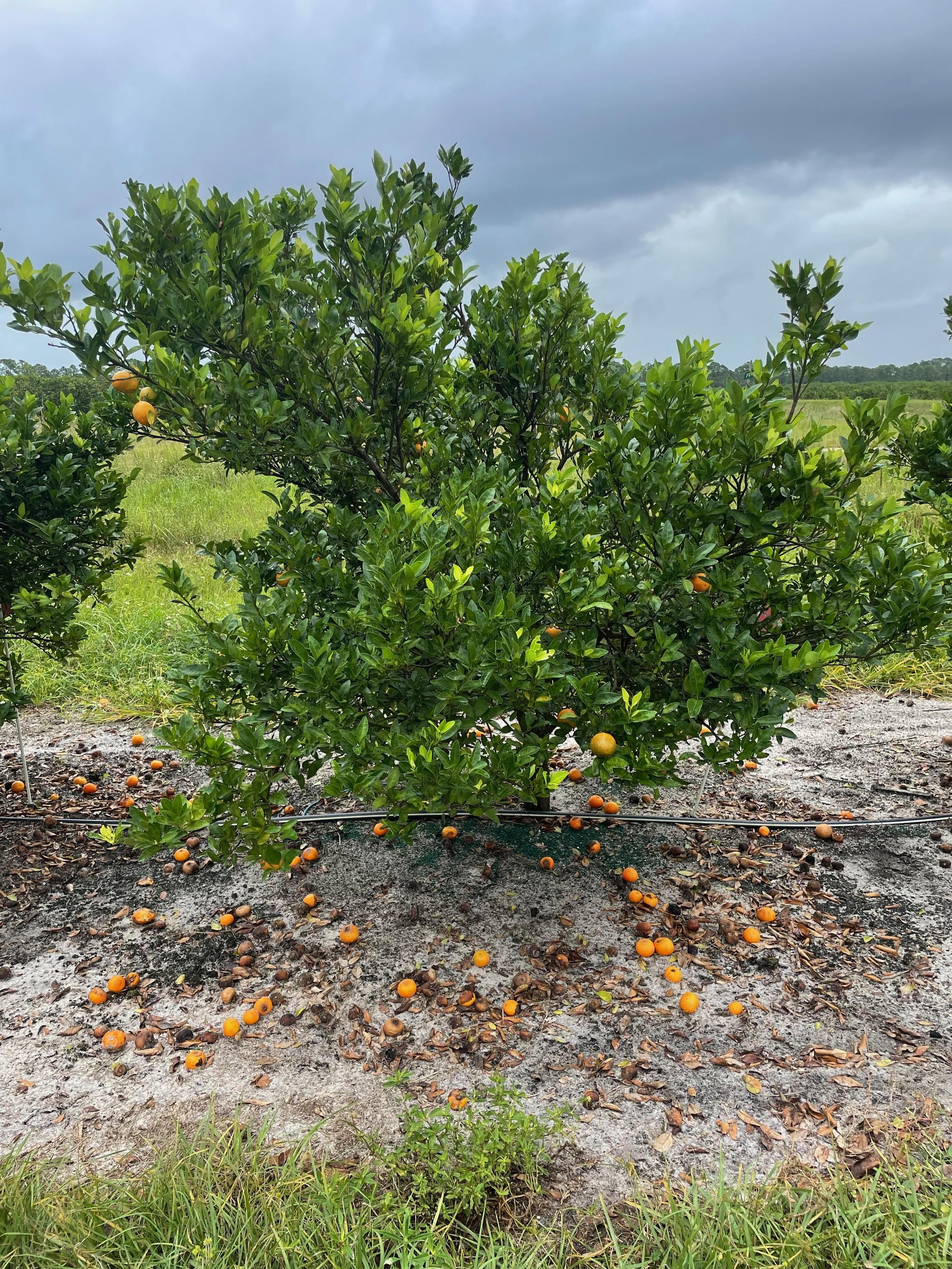fruit_on_ground: (109, 367, 141, 395), (588, 730, 618, 759), (130, 400, 159, 427), (688, 569, 714, 595), (555, 706, 580, 731), (272, 567, 296, 589), (554, 404, 575, 427), (137, 384, 159, 404), (541, 622, 564, 641), (411, 437, 431, 457)
fruit_on_tree: (677, 989, 700, 1015), (103, 1027, 127, 1050), (259, 851, 284, 873), (445, 1088, 470, 1110), (382, 1015, 406, 1036), (338, 921, 360, 943), (663, 963, 685, 984), (396, 977, 418, 998), (184, 1049, 207, 1069), (653, 935, 674, 956), (471, 947, 492, 968), (635, 935, 655, 957), (133, 1030, 156, 1049), (107, 973, 128, 993), (741, 924, 762, 944), (132, 906, 154, 925), (254, 994, 274, 1014), (87, 985, 108, 1004), (756, 903, 777, 922), (509, 970, 531, 988), (175, 1027, 196, 1045), (501, 997, 520, 1016), (726, 998, 746, 1016), (457, 988, 477, 1006), (814, 820, 834, 838), (620, 865, 640, 883), (634, 918, 653, 936), (222, 1016, 240, 1035), (241, 1007, 259, 1026), (110, 1059, 128, 1077), (372, 819, 390, 837), (125, 970, 142, 988), (297, 969, 316, 985), (440, 823, 459, 839), (219, 986, 236, 1003), (236, 940, 254, 956), (626, 887, 644, 903), (643, 890, 660, 906), (285, 853, 302, 869), (302, 845, 319, 861), (538, 854, 555, 870), (173, 846, 190, 862), (603, 799, 620, 815), (199, 1028, 217, 1043), (234, 902, 252, 917), (474, 997, 490, 1013), (806, 876, 823, 891), (566, 766, 583, 781), (93, 1024, 110, 1039), (684, 917, 700, 932), (303, 891, 318, 907), (586, 839, 602, 854), (10, 778, 26, 793), (588, 793, 604, 808), (181, 860, 198, 874), (81, 781, 98, 795), (554, 953, 569, 968), (927, 827, 943, 841), (238, 953, 254, 967), (219, 912, 235, 926), (279, 1012, 296, 1025), (470, 726, 487, 739), (118, 795, 135, 808), (1, 963, 13, 981), (269, 918, 287, 930), (482, 837, 497, 851), (819, 853, 834, 867), (253, 923, 268, 937), (831, 830, 846, 844), (275, 967, 290, 981), (757, 823, 772, 837), (568, 815, 583, 829), (130, 732, 145, 746), (517, 1029, 533, 1042), (185, 836, 201, 849), (743, 757, 759, 770), (838, 809, 855, 821), (73, 774, 87, 787), (126, 774, 140, 787), (697, 724, 712, 736), (940, 731, 952, 746), (728, 763, 742, 775), (162, 860, 176, 872), (805, 698, 819, 710), (97, 694, 111, 706), (640, 792, 654, 804), (283, 803, 296, 815), (168, 759, 182, 770), (164, 785, 177, 796), (150, 759, 163, 770), (269, 804, 280, 815), (49, 791, 60, 801)
